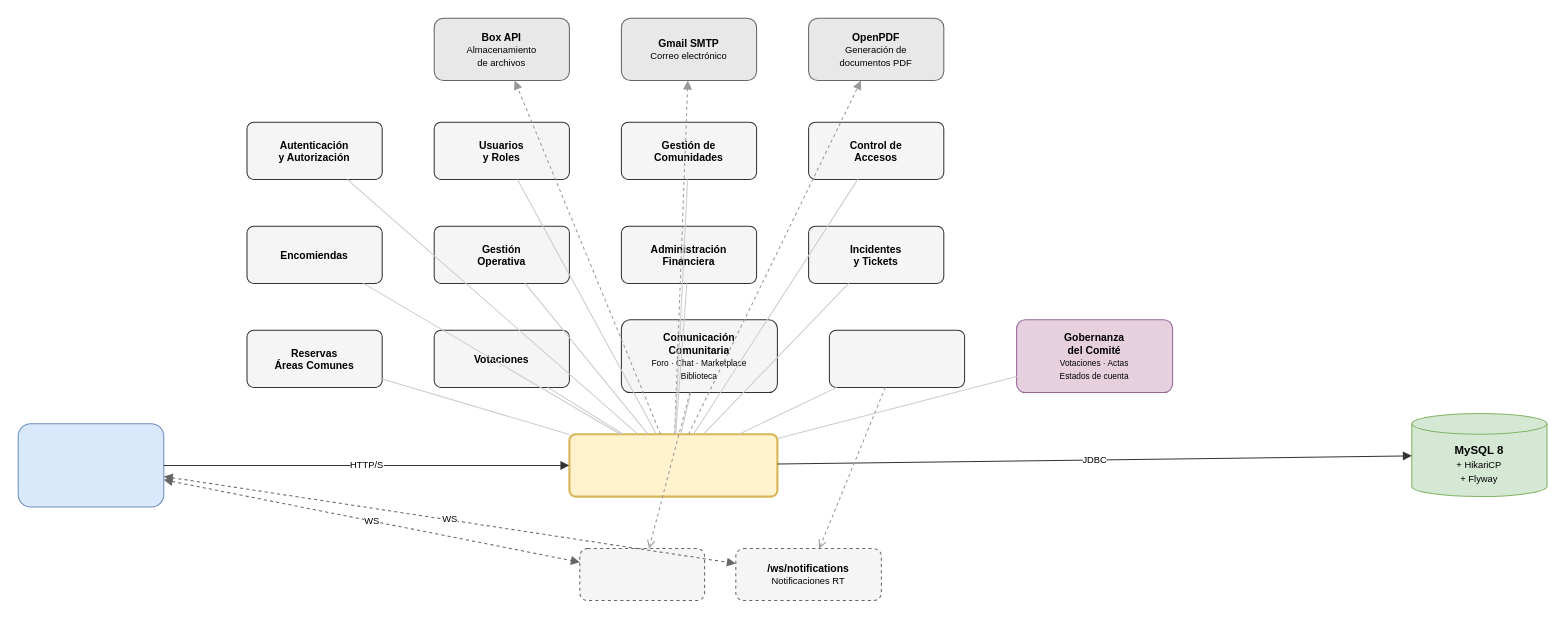
Some shapes in this 1565 by 619 pixel diagram are drawn without their labels. Each missing label, with the centre of its shape:
"/ws/chat Mensajería RT" belongs at (642,574).
"API REST Javalin 6 + Java 21" belongs at (673,465).
"Frontend React 19 (SPA) + Vite + PWA" belongs at (90,465).
"Notificaciones Push + WebSocket" belongs at (896,358).
